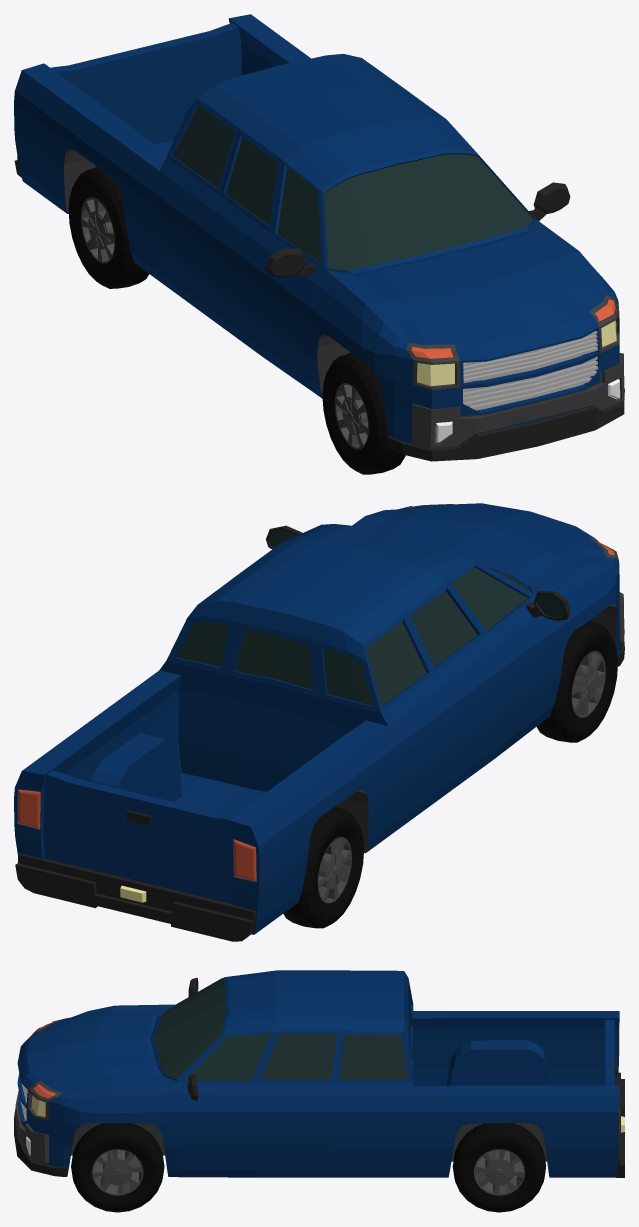
File: Pick-up Truck.fbx
3 renders of one model, top to bottom at view 1: azimuth 30°, elevation 25°; view 2: azimuth 150°, elevation 25°; view 3: azimuth 270°, elevation 25°, orthographic. The views are drawn at different scales.
Visible parts, largest first — view 1: Body, Frontright Wheel, Backright Wheel; view 2: Body, Frontright Wheel, Backright Wheel; view 3: Body, Frontleft Wheel, Backleft Wheel.
Boxes of the visible parts, x1,y1,x2,y2 form: Body: [14, 14, 624, 461]; Frontright Wheel: [322, 352, 405, 474]; Backright Wheel: [68, 167, 149, 288]; Body: [14, 503, 624, 941]; Frontright Wheel: [536, 620, 617, 742]; Backright Wheel: [283, 806, 363, 928]; Body: [14, 970, 624, 1177]; Frontleft Wheel: [71, 1123, 164, 1212]; Backleft Wheel: [452, 1123, 546, 1212].
Bounding box in the file's own units: 138 × 104 × 320.
4 materials, 1 textured.
